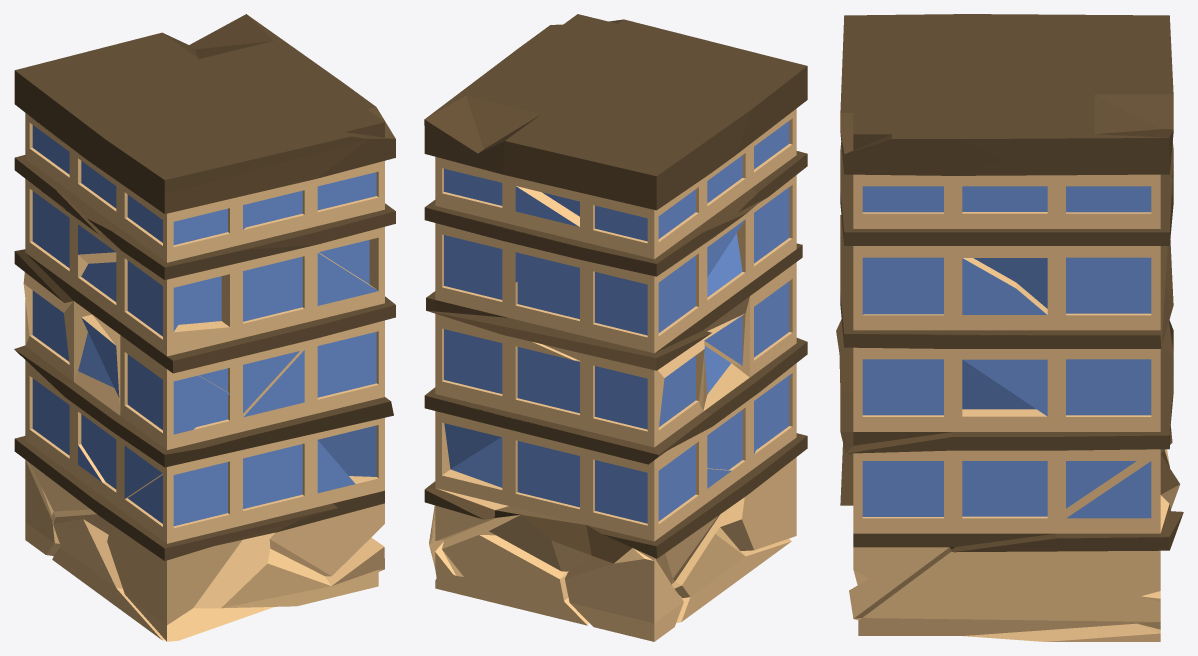
Rendered from T1-Newest3.fbx.
3 views of the same model, side by side, from view 1: azimuth 30°, elevation 25°; view 2: azimuth 150°, elevation 25°; view 3: azimuth 270°, elevation 25° (orthographic). The views are drawn at different scales.
Visible parts, largest first — view 1: Cube.001; view 2: Cube.001; view 3: Cube.001.
Part boxes in pixels (x1,y1,x2,y2): Cube.001: (14,14,395,641); Cube.001: (424,14,807,641); Cube.001: (836,14,1183,641).
Size of the model in its own units: 632 by 1189 by 738.
